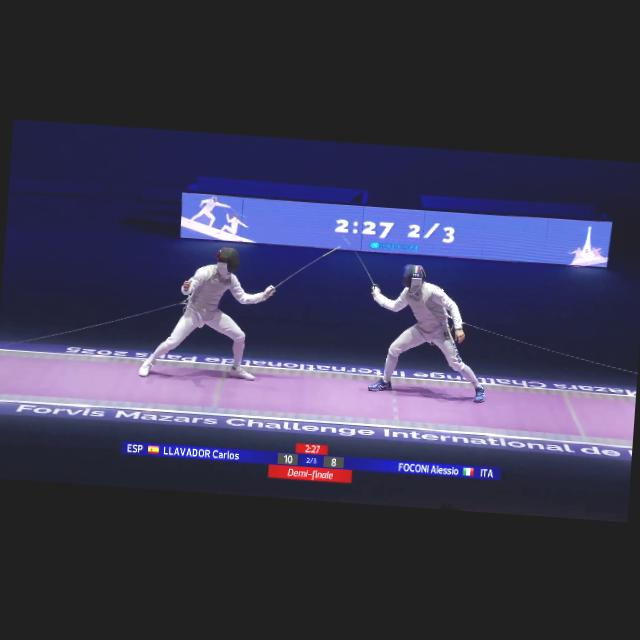blade: (266, 240, 341, 298), (336, 228, 388, 290)
